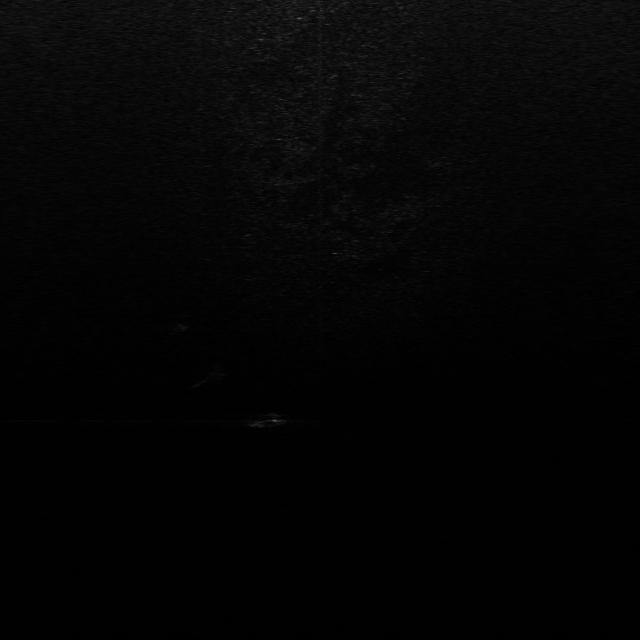ball: (204, 362, 233, 383)
circle cage: (173, 316, 198, 330)
tyre: (247, 409, 286, 428)
